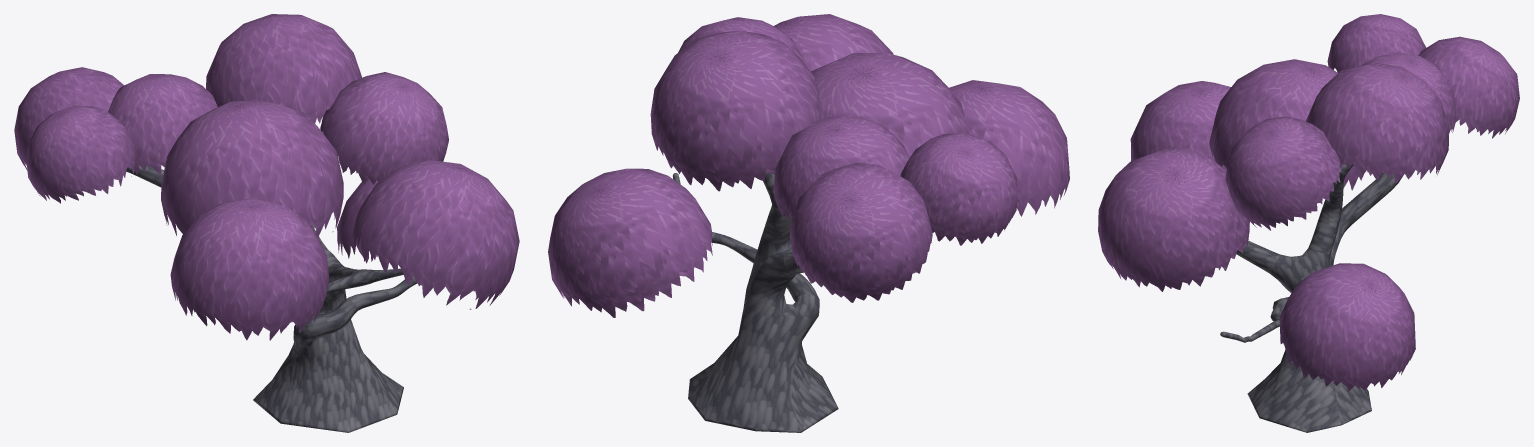
The model's file is ipe-roxo.fbx.
The picture shows the model from 3 angles, left to right: view 1: azimuth 30°, elevation 25°; view 2: azimuth 150°, elevation 25°; view 3: azimuth 270°, elevation 25°; orthographic projection. The views are drawn at different scales.
Visible parts, largest first — view 1: ipe-roxo; view 2: ipe-roxo; view 3: ipe-roxo.
Part boxes in pixels (box(x1,y1,x2,y2)): ipe-roxo: box(14, 14, 519, 432); ipe-roxo: box(548, 14, 1069, 432); ipe-roxo: box(1098, 14, 1519, 432).
Bounding box in the file's own units: 2408 × 1914 × 2251.
